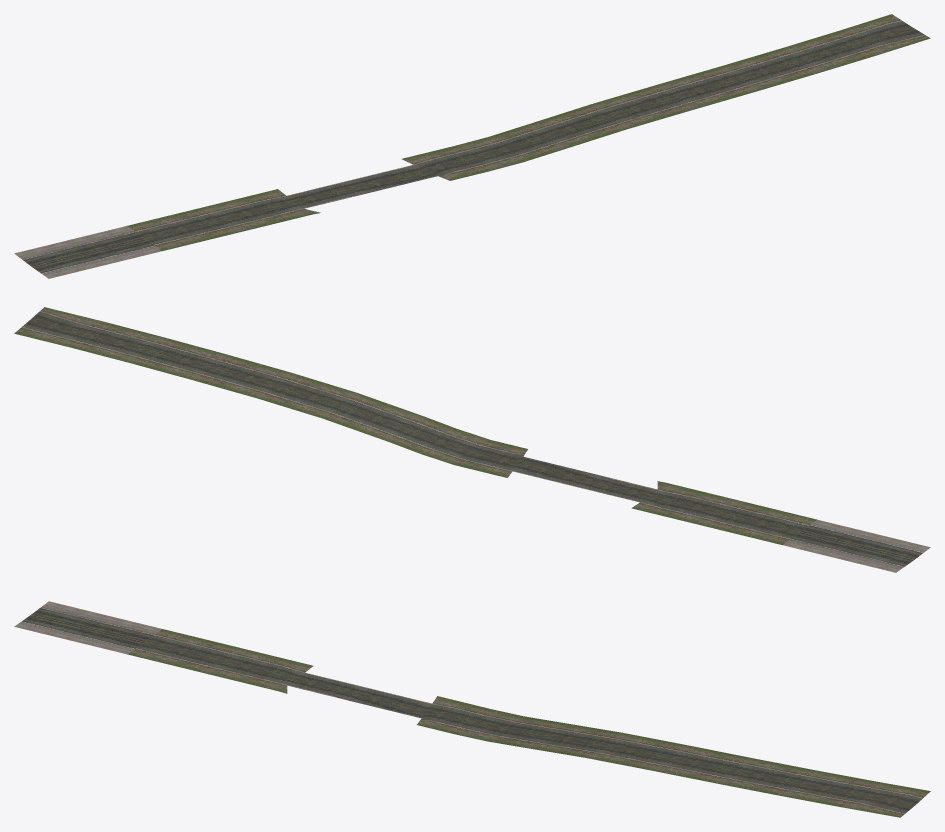
File: lodcunte_roads50.obj
The picture shows the model from 3 angles, top to bottom: view 1: azimuth 30°, elevation 25°; view 2: azimuth 150°, elevation 25°; view 3: azimuth 330°, elevation 25°; orthographic projection.
Visible parts, largest first — view 1: LODcunte_roads50; view 2: LODcunte_roads50; view 3: LODcunte_roads50.
Part boxes in pixels (x1,y1,x2,y2): LODcunte_roads50: (14, 14, 930, 278); LODcunte_roads50: (14, 307, 930, 572); LODcunte_roads50: (14, 601, 930, 817).
Size of the model in its own units: 293 by 7.93 by 22.34.
Materials: 2 (2 with a texture image).
